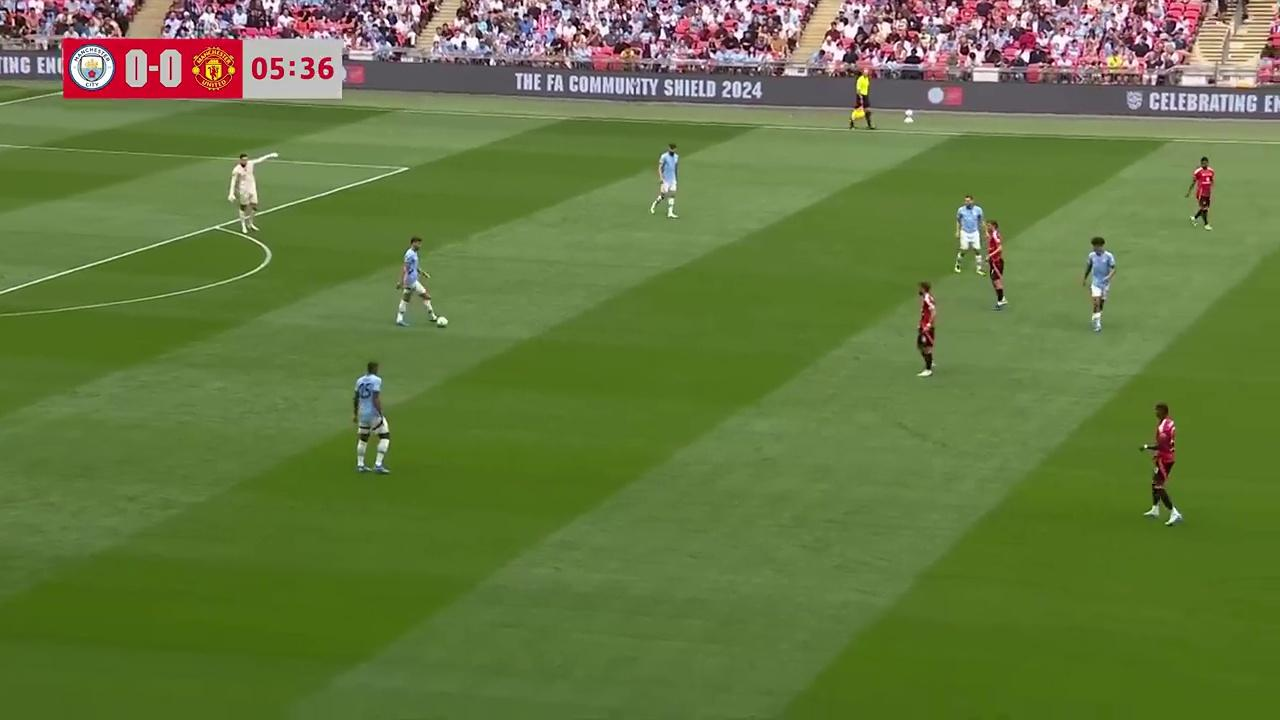ball: (435, 313, 450, 328)
player: (1139, 402, 1182, 526), (393, 236, 448, 328), (352, 359, 391, 473), (1080, 237, 1115, 333), (954, 194, 986, 275), (228, 153, 259, 236), (649, 142, 679, 219), (1186, 156, 1214, 229), (916, 281, 937, 376), (986, 221, 1007, 310)
referee: (848, 71, 874, 131)
